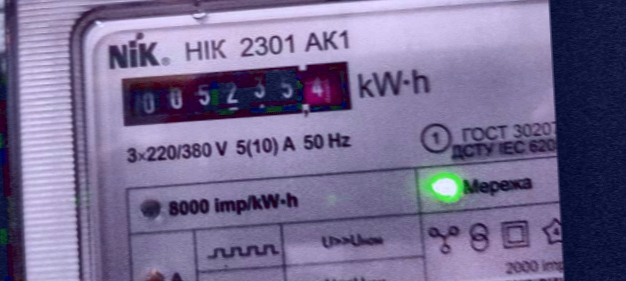0: (140, 87, 157, 112), (168, 83, 184, 108)
2: (223, 76, 240, 103)
3: (250, 72, 268, 98)
4: (308, 69, 327, 98)
5: (278, 69, 295, 98), (196, 79, 211, 104)
screen: (108, 48, 361, 133)
